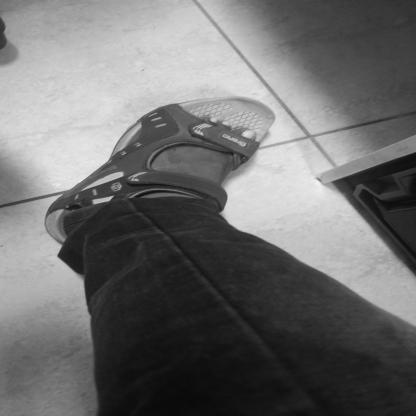ankle: (98, 204, 105, 208)
heel: (58, 234, 65, 239)
left_foot: (47, 97, 277, 245)
pinky: (152, 122, 160, 127)
toe: (250, 133, 257, 137)
